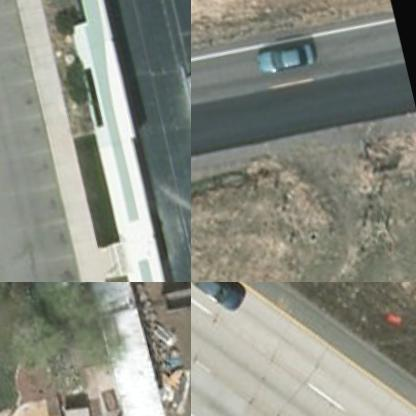car: (248, 34, 317, 78), (191, 282, 249, 322)
